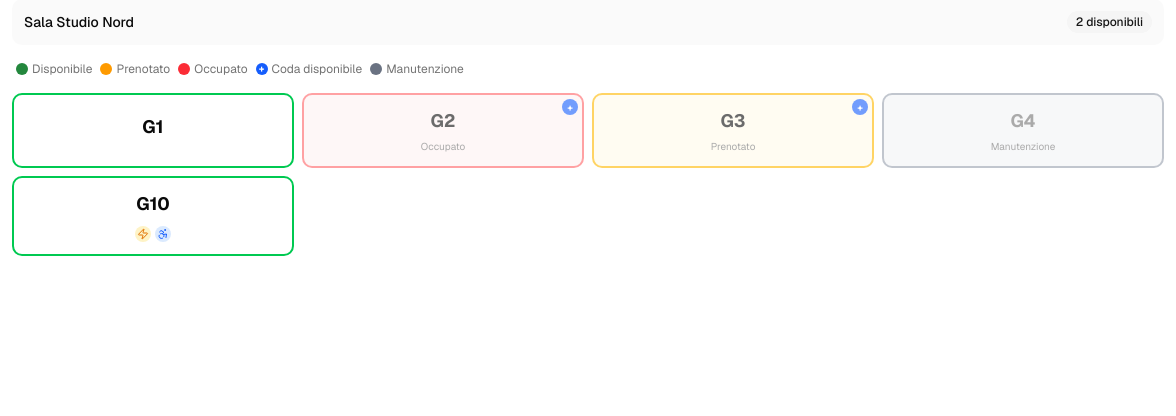
MobilePostiGrid › [TC-UI-GRID-005] se si e' gia' in coda per quel posto e fascia mostra la posizione, anche con orari in formato ISO
Step 1. Click the button with aria-label "G2 - Occupato" → click(443, 130), box [302,93,584,168]
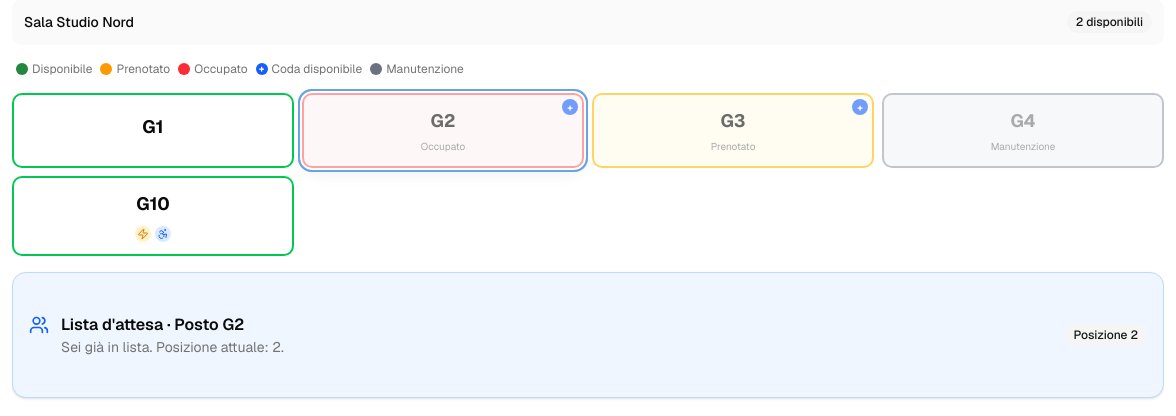
Expected: the text "Sei già in lista. Posizione attuale: 2." is shown, [61,337,284,357]
Expected: the text named "Posizione in coda 2" is shown, [1064,324,1147,346]
